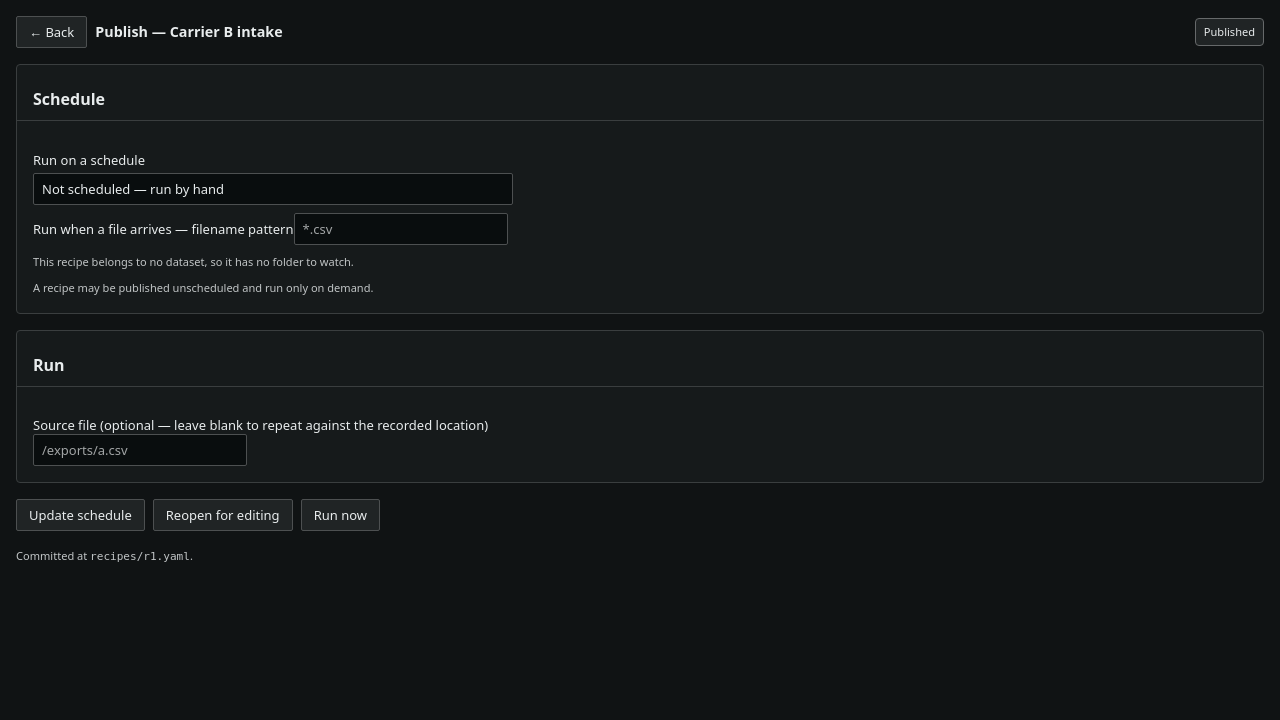
it: PublishScreen › says counts are withheld, with the reason, and draws no zero, for a withheld run
The image size is (1280, 720).
Click the button "Run now".
click(340, 515)  # box left=301, top=499, right=380, bottom=531
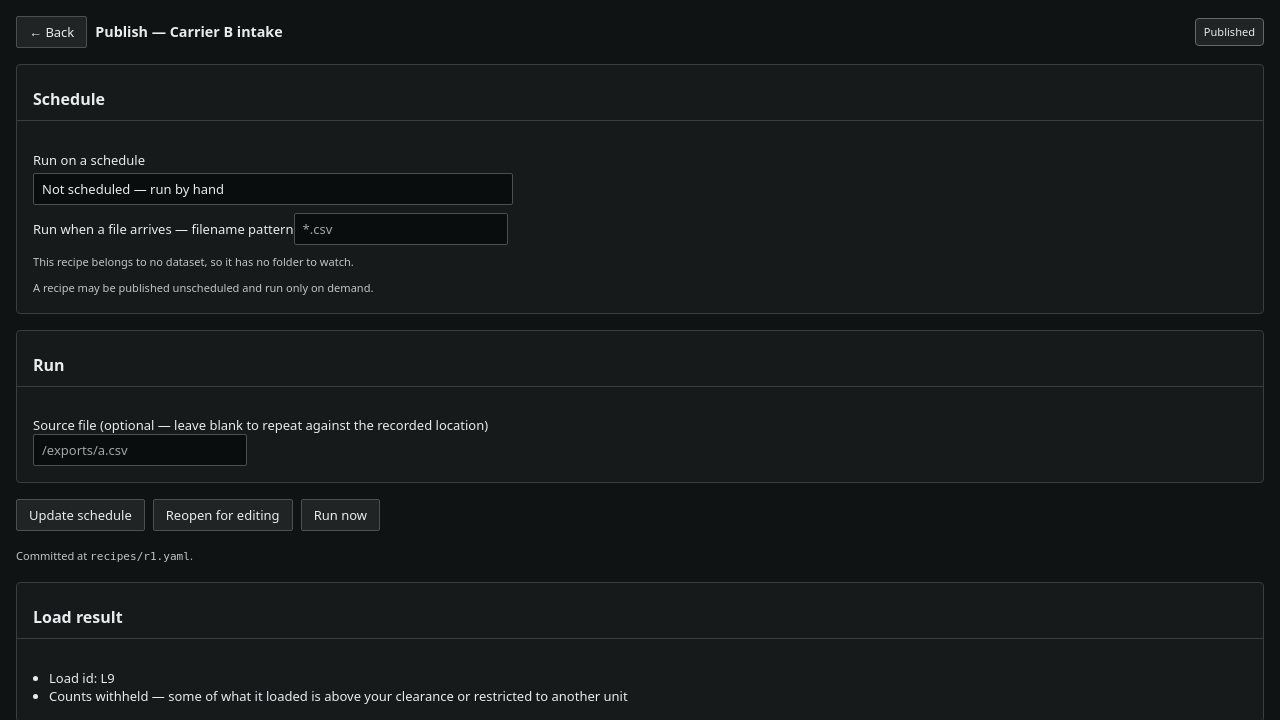
Now the list item that starts with "Counts withheld —" is shown, box left=49, top=687, right=628, bottom=705
Now the list item "Load id: L9" is shown, box left=49, top=669, right=115, bottom=687
